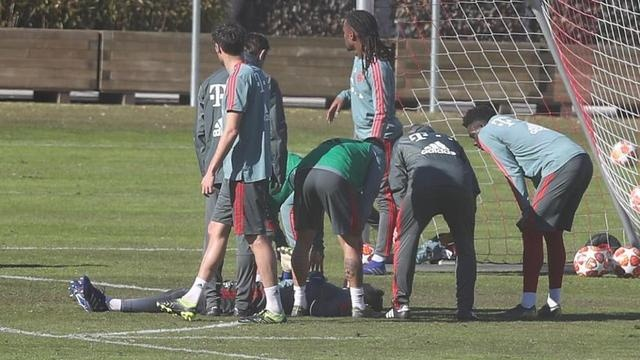falling: (567, 225, 638, 281)
